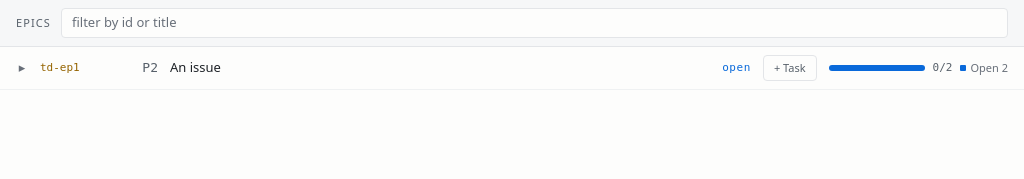
Test: EpicList › shows the direct children when a row is expanded, and hides them again
expect the text "First task" is not shown: met
Click the button named "Tasks of td-ep1" at (22, 68), box [16,58,28,78]
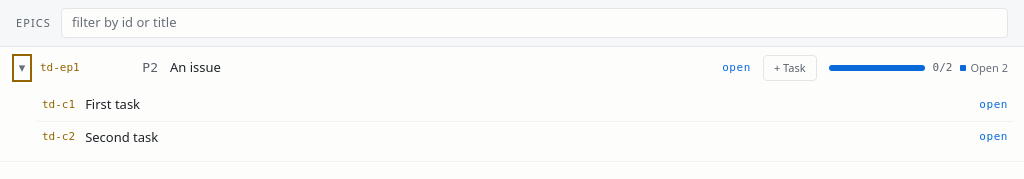
expect the button named "Tasks of td-ep1" is expanded: met
expect the text "First task" is shown: met, box [85,95,140,113]
expect the text "Second task" is shown: met, box [85,128,158,146]
Click the button named "Tasks of td-ep1" at (22, 68), box [16,58,28,78]
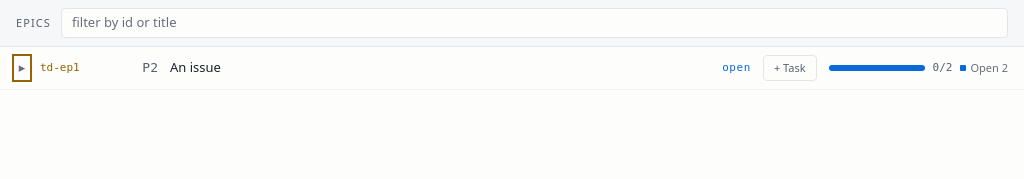
expect the text "First task" is gone: met
